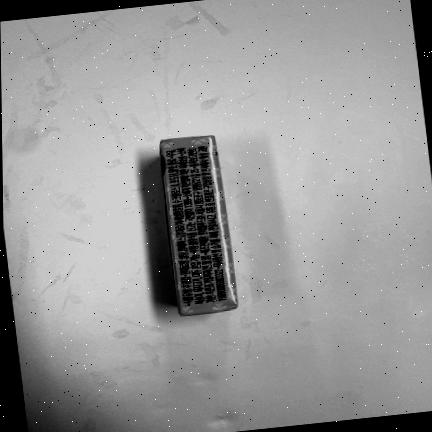gum_yellow: (158, 136, 240, 317)
